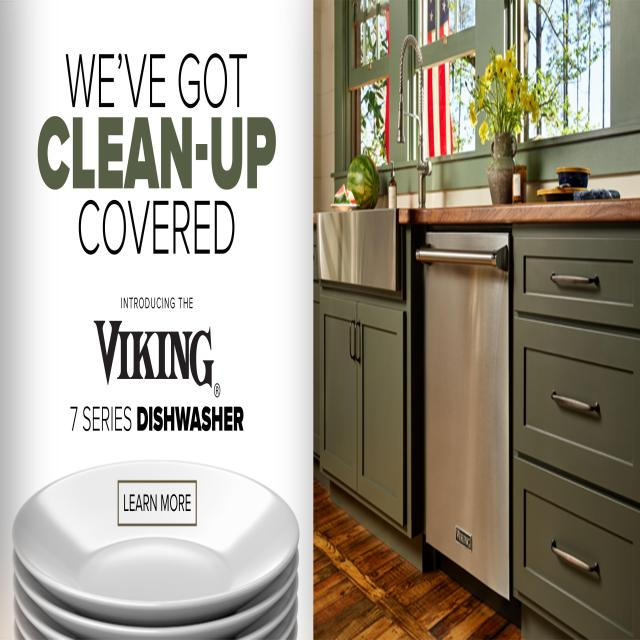dishwasher: (413, 223, 522, 613)
